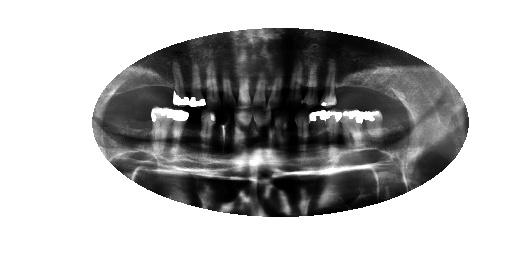i10decay: (230, 105, 253, 158)
i11decay: (214, 104, 235, 159)
i12decay: (197, 109, 217, 158)
i13loss: (180, 111, 201, 158)
i14healthy: (165, 106, 191, 156)
i15healthy: (147, 101, 174, 157)
i2heallthy: (360, 108, 388, 148)
i3healthy: (339, 107, 364, 148)
i4decay: (326, 106, 340, 152)
i5decay: (307, 110, 330, 150)
i6decay: (292, 105, 315, 155)
i7loss: (281, 108, 299, 156)
i8decay: (271, 108, 287, 152)
i9decay: (249, 105, 272, 153)
u10decay: (217, 62, 237, 108)
u11decay: (198, 57, 222, 110)
u12healthy: (188, 54, 208, 109)
u13healthy: (166, 57, 191, 111)
u14loss: (150, 60, 171, 105)
u15loss: (131, 65, 154, 104)
u2loss: (360, 66, 382, 109)
u3loss: (337, 61, 361, 107)
u4decay: (319, 56, 340, 107)
u5decay: (303, 53, 321, 107)
u6decay: (287, 54, 302, 109)
u7decay: (266, 56, 282, 110)
u8decay: (249, 58, 267, 110)
u9healthy: (233, 67, 252, 110)
